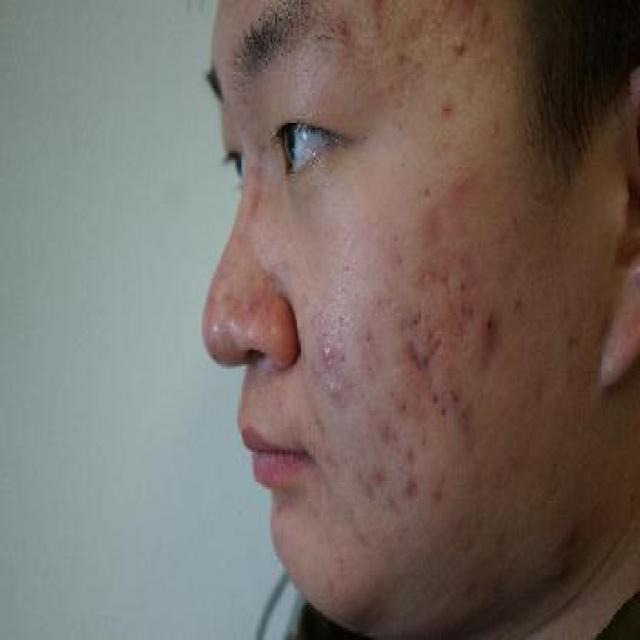dark spot: (432, 79, 468, 134), (388, 304, 437, 338)
papules: (312, 338, 340, 374), (322, 373, 348, 406), (450, 28, 472, 65)
